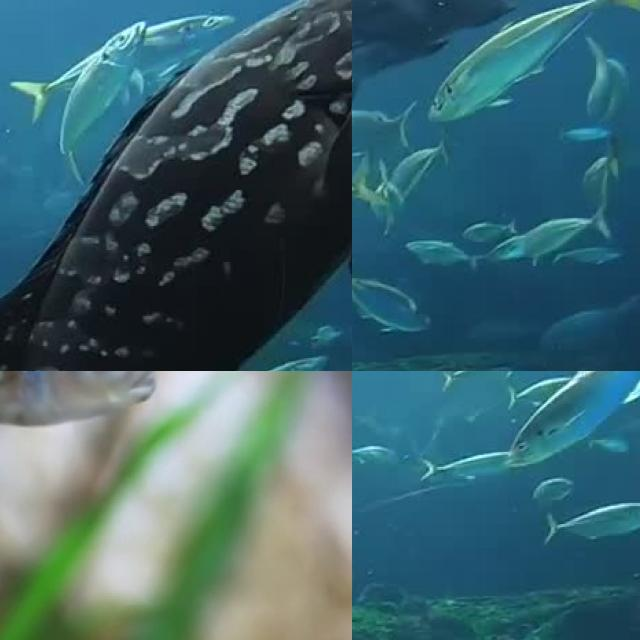fish: (0, 0, 352, 371), (352, 258, 434, 330)
